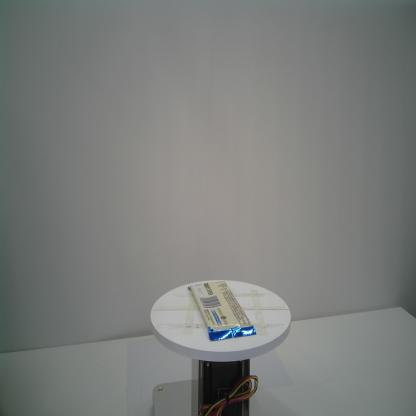Chocolate: (187, 280, 258, 342)
